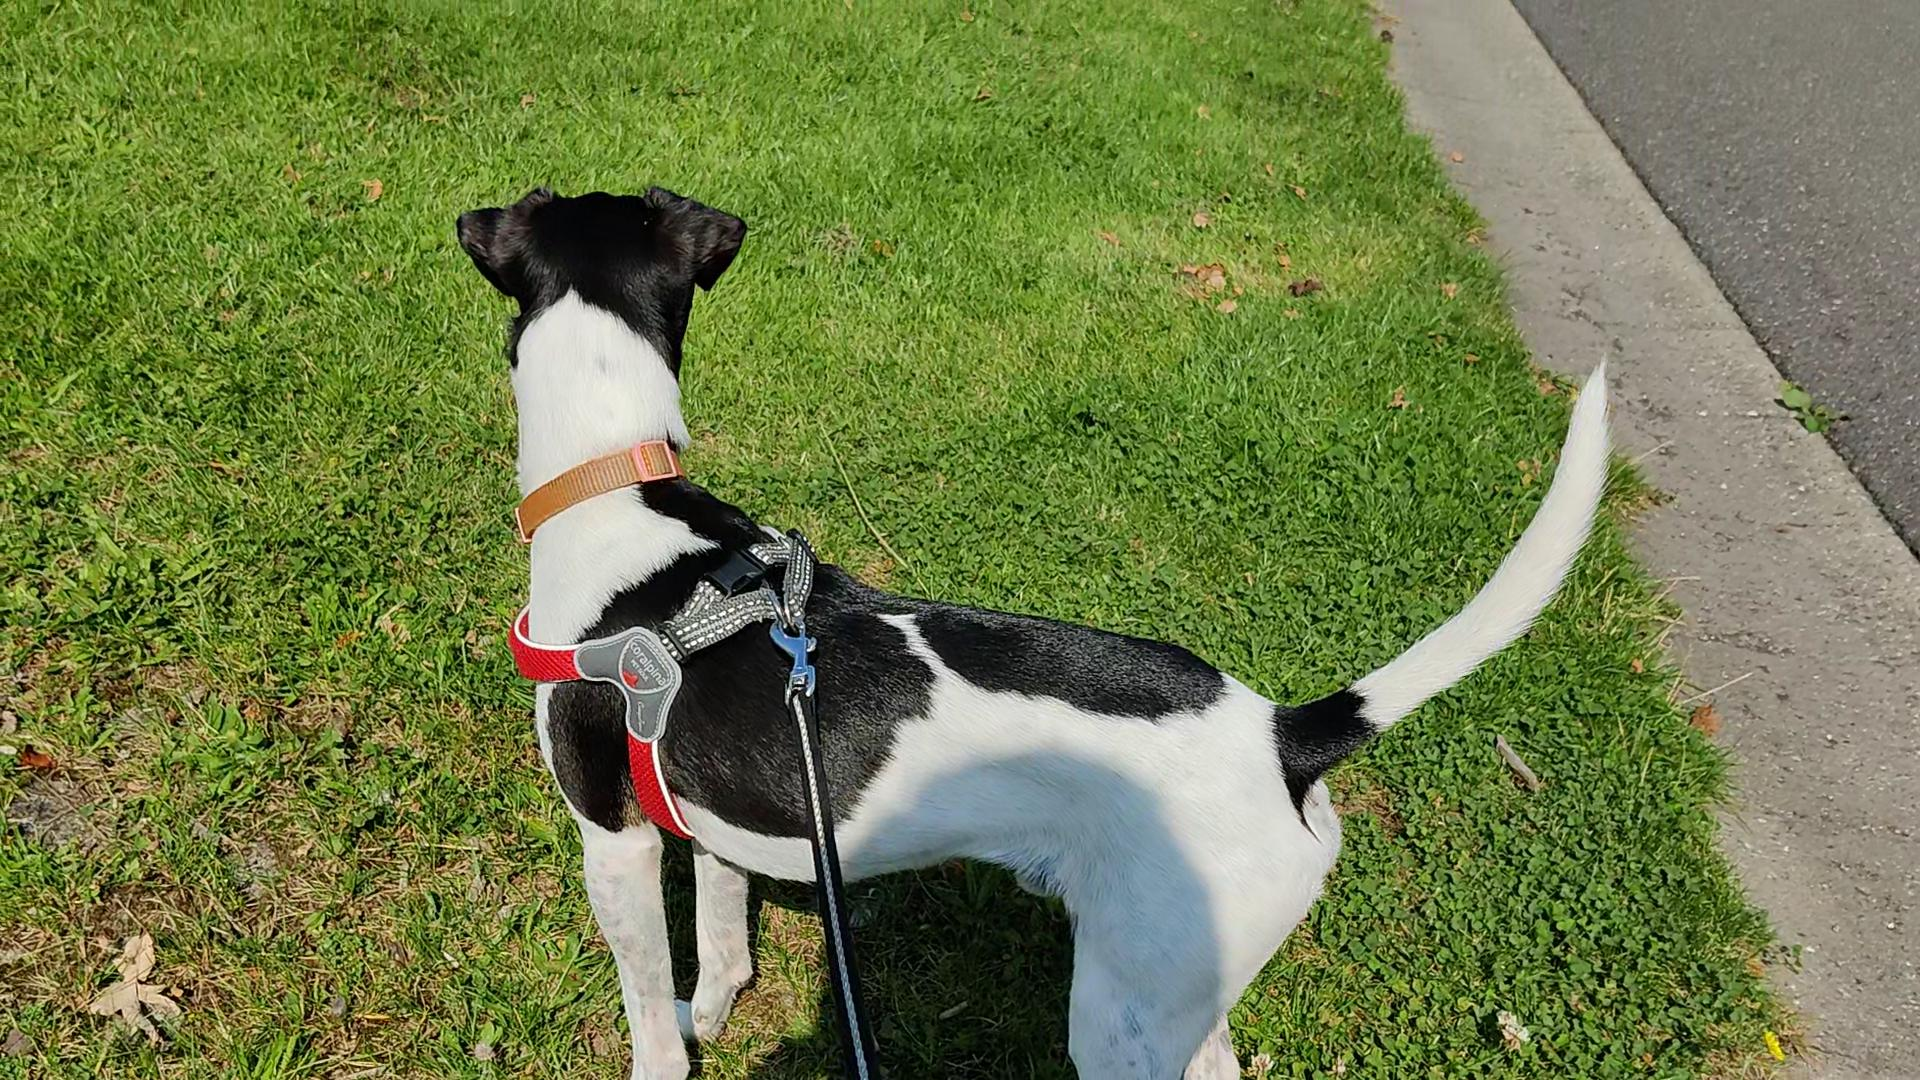Dog: (436, 167, 1631, 1079)
